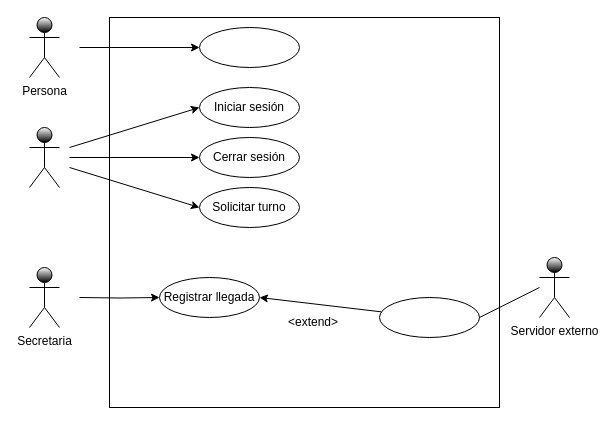
The diagram is 616 pixels wide and 425 high, and some of its shapes have lost their labels. The shapes that lost their labels are listed below. From the top down, each one's box as (x1, y1, x2, y2) in pixels, then its label:
(198, 26, 300, 68): Registrarse
(28, 126, 60, 188): Cliente
(378, 296, 480, 338): Sumar puntos
